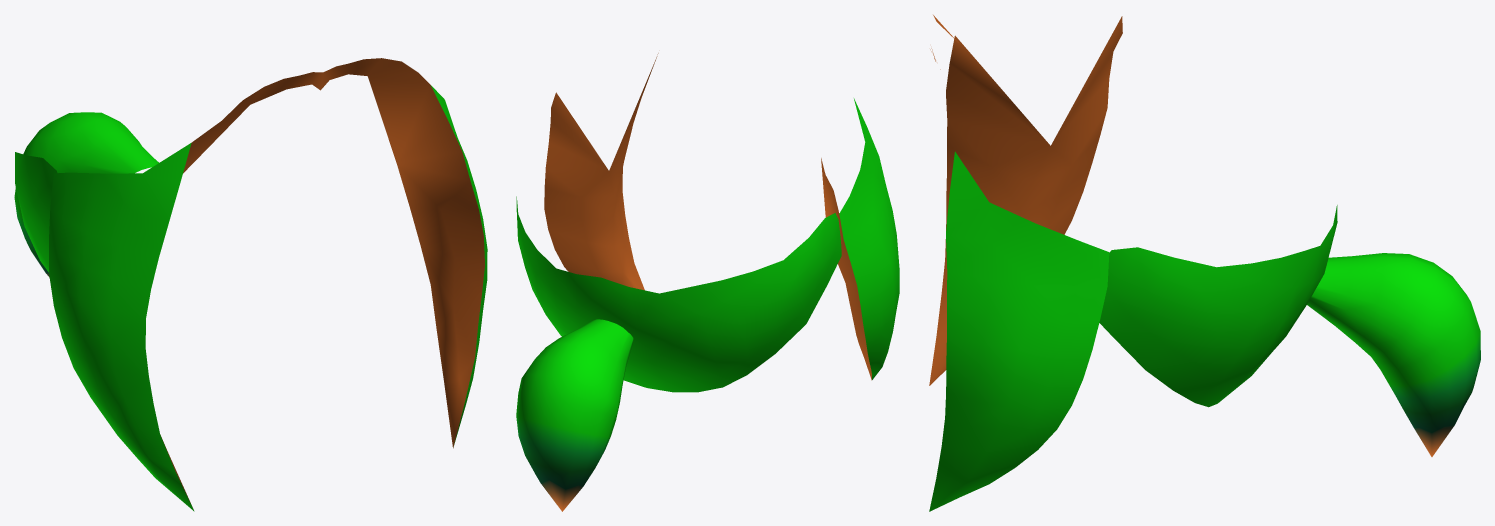
File: Hair2_130.glb
The picture shows the model from 3 angles, left to right: view 1: azimuth 30°, elevation 25°; view 2: azimuth 150°, elevation 25°; view 3: azimuth 270°, elevation 25°; orthographic projection. The views are drawn at different scales.
Bounding box in the file's own units: 60.37 × 60.88 × 72.94.
